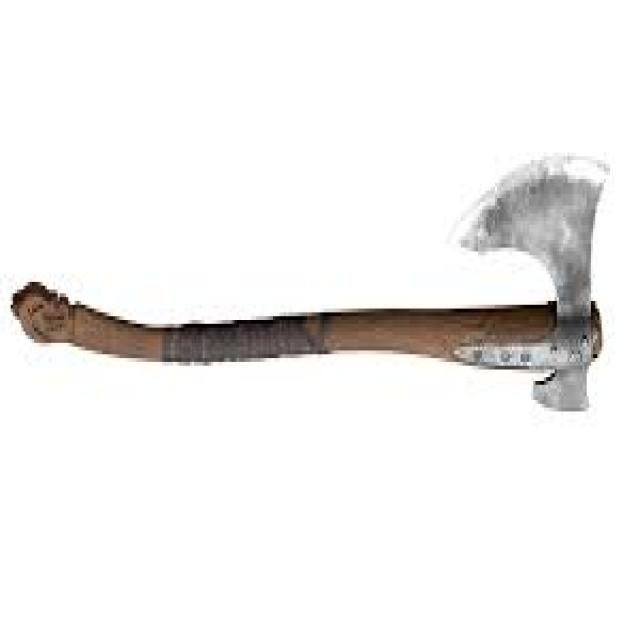Gun: (25, 136, 625, 473)
